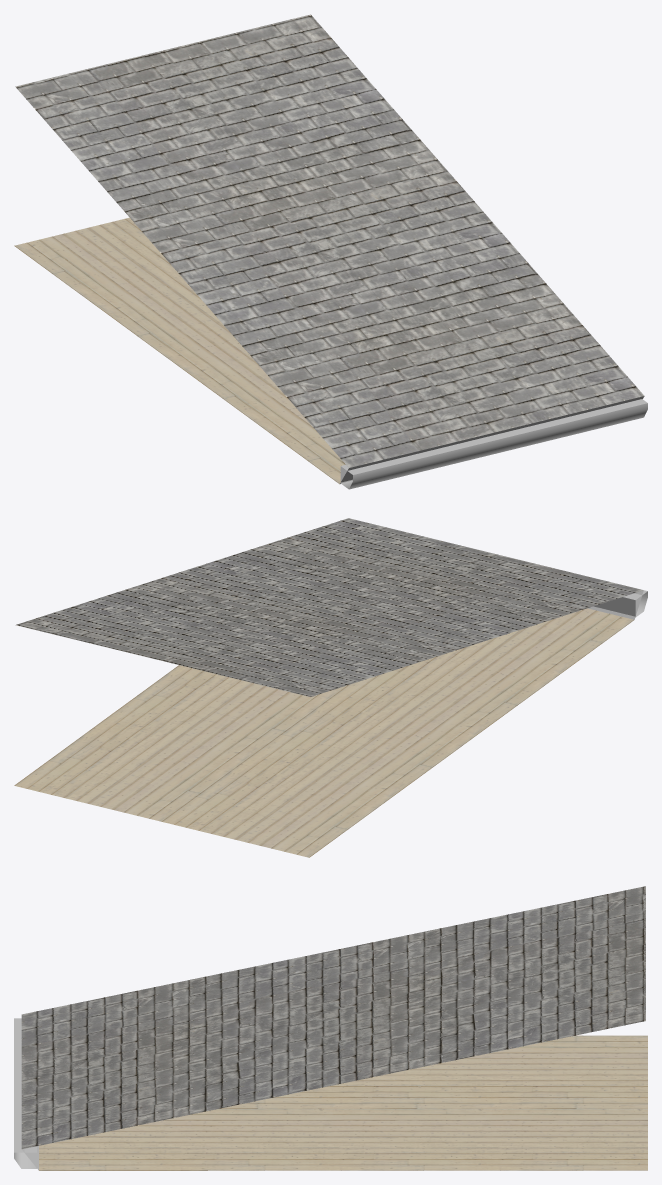
File: Porch_4x_COL.FBX
The picture shows the model from 3 angles, top to bottom: view 1: azimuth 30°, elevation 25°; view 2: azimuth 150°, elevation 25°; view 3: azimuth 270°, elevation 25°; orthographic projection. The views are drawn at different scales.
Visible parts, largest first — view 1: Porch_4x_COL; view 2: Porch_4x_COL; view 3: Porch_4x_COL.
Part boxes in pixels (left/top/right/bottom): Porch_4x_COL: left=14, top=14, right=647, bottom=489; Porch_4x_COL: left=14, top=518, right=647, bottom=857; Porch_4x_COL: left=14, top=886, right=647, bottom=1170.
Bounding box in the file's own units: 201 × 104 × 398.
